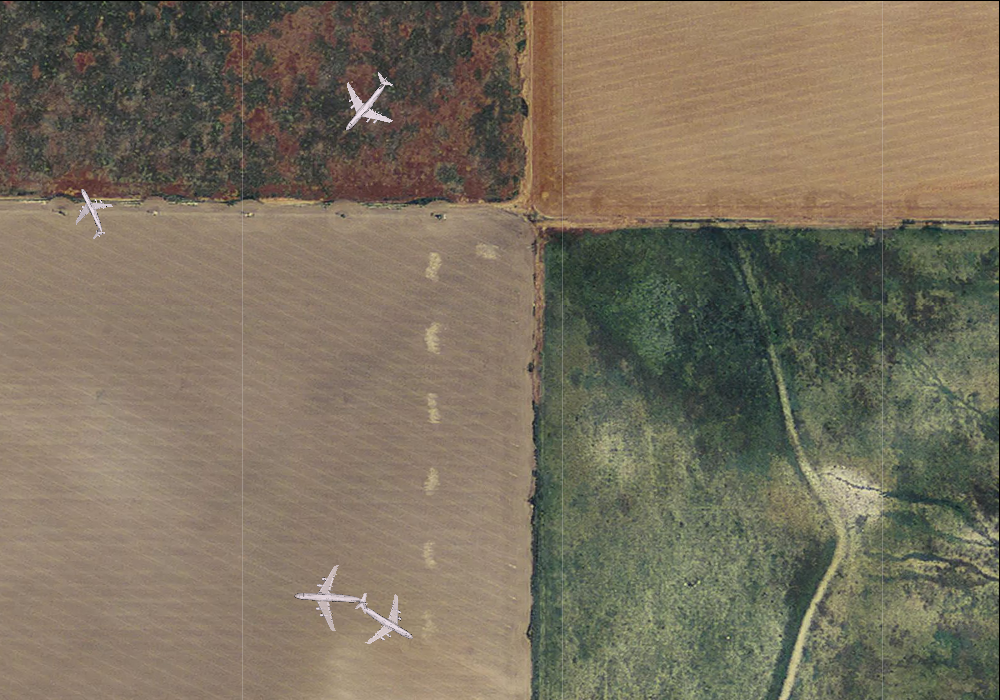plane: (320, 57, 412, 149), (340, 575, 430, 664), (292, 562, 370, 637), (58, 178, 123, 246)
